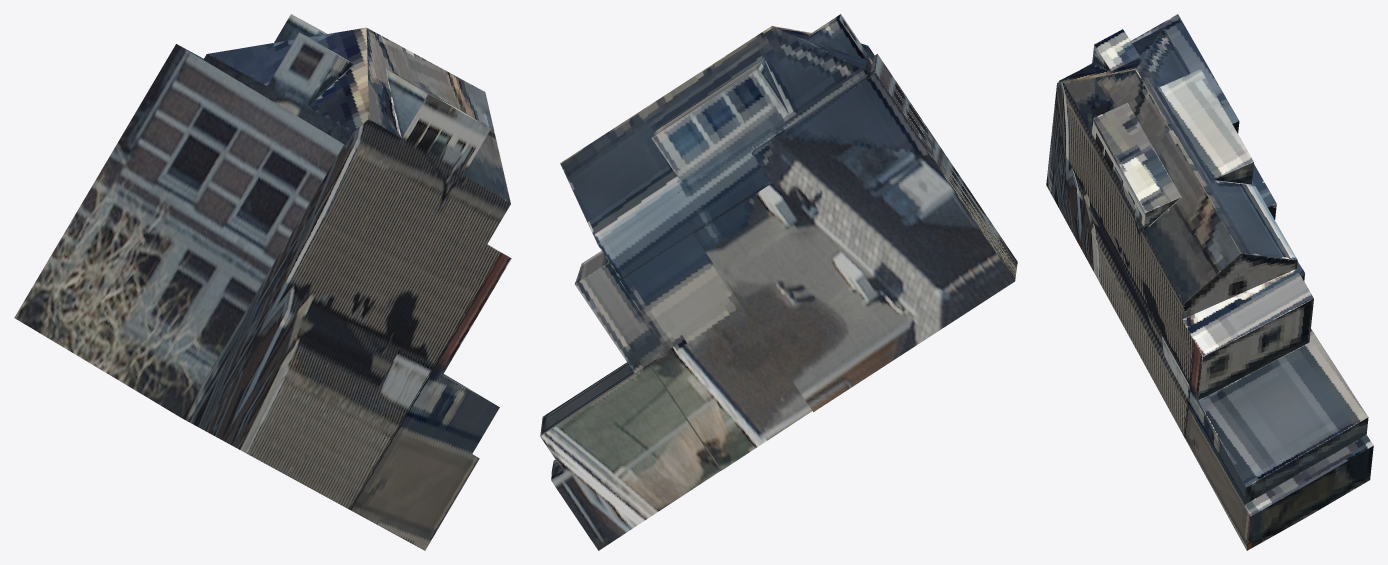
3 renders of one model, left to right at view 1: azimuth 30°, elevation 25°; view 2: azimuth 150°, elevation 25°; view 3: azimuth 270°, elevation 25°, orthographic. The views are drawn at different scales.
Visible parts, largest first — view 1: BAG_0599100000760377 (×7); view 2: BAG_0599100000760377 (×10); view 3: BAG_0599100000760377 (×9).
Boxes of the visible parts, x1,y1,x2,y2 form: BAG_0599100000760377 (×7): (14, 14, 511, 550); BAG_0599100000760377 (×10): (540, 14, 1017, 550); BAG_0599100000760377 (×9): (1046, 14, 1373, 550).
Bounding box in the file's own units: 15.01 × 16.82 × 11.13.
2 materials, 1 textured.
